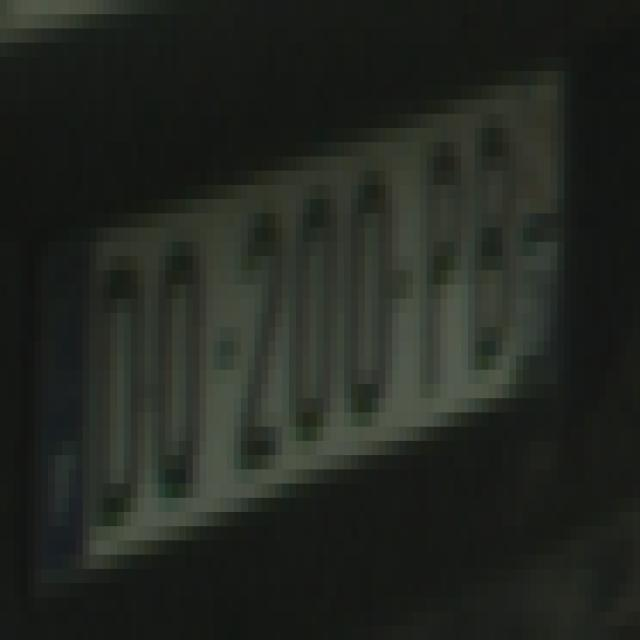Autre: (51, 67, 555, 554)
